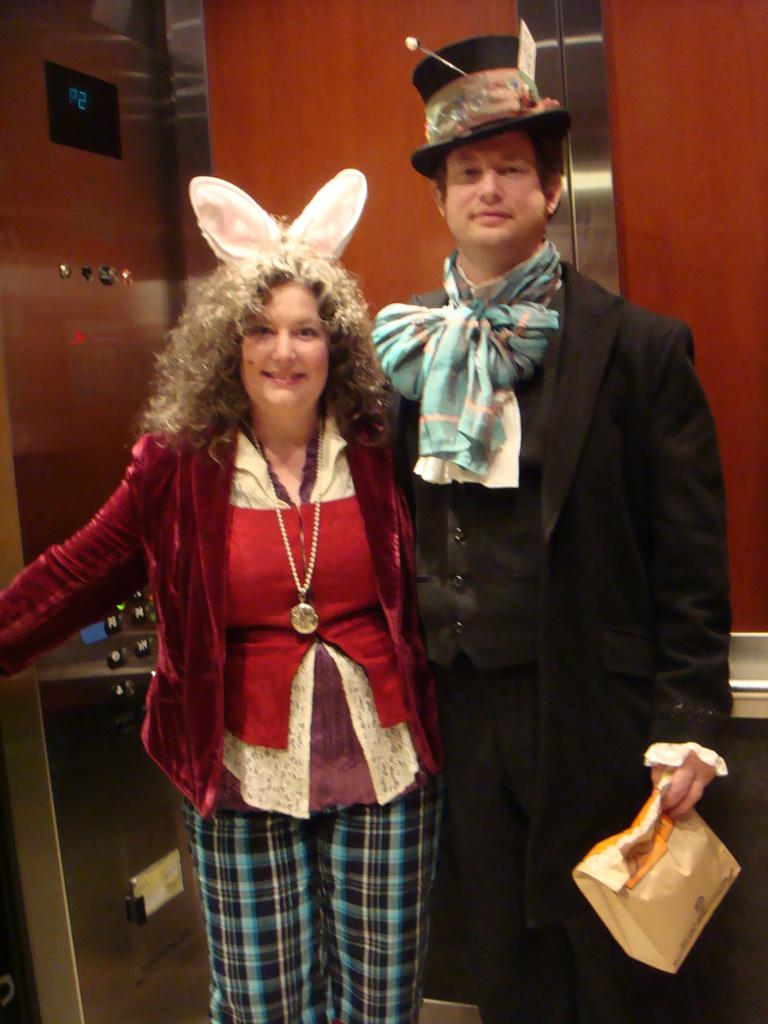Hat: (406, 34, 576, 182)
